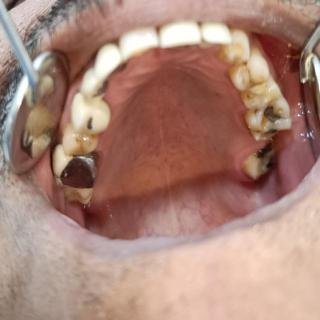UL1BC_mdecay: (227, 46, 272, 92)
UL2BC_sdecay: (240, 80, 292, 131)
UL2M_sdecay: (244, 144, 276, 179)
ULCI_healthy: (160, 21, 201, 48)
ULC_mdecay: (215, 29, 251, 66)
ULLI_healthy: (202, 22, 232, 44)
UR1BC_sdecay: (71, 94, 111, 134)
UR2BC_mdecay: (62, 124, 99, 155)
UR2M_healthy: (62, 187, 91, 205)
URCI_healthy: (118, 26, 160, 62)
URC_sdecay: (80, 67, 109, 99)
URLI_sdecay: (94, 42, 127, 81)
